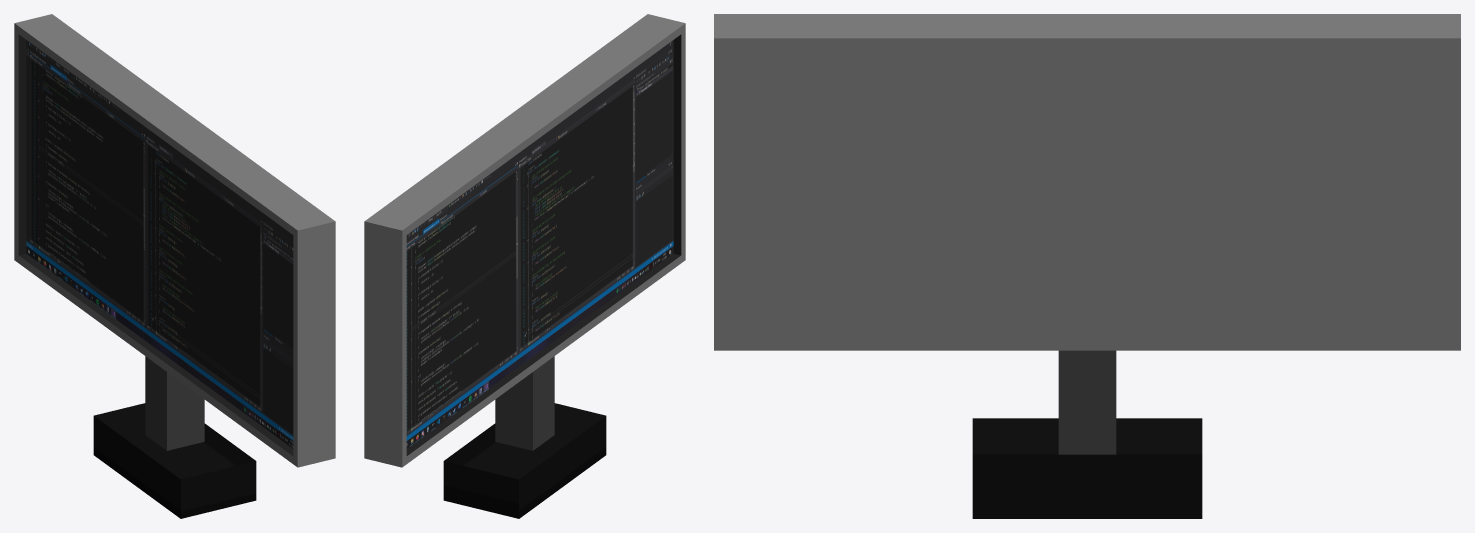
The model's file is monitor.fbx.
3 views of the same model, side by side, from view 1: azimuth 30°, elevation 25°; view 2: azimuth 150°, elevation 25°; view 3: azimuth 270°, elevation 25° (orthographic). The views are drawn at different scales.
Visible parts, largest first — view 1: Cube; view 2: Cube; view 3: Cube.
Boxes of the visible parts, <box> form: Cube: <box>14,14,335,518</box>; Cube: <box>364,14,685,518</box>; Cube: <box>714,14,1460,518</box>.
Bounding box in the file's own units: 25 × 113 × 163.
